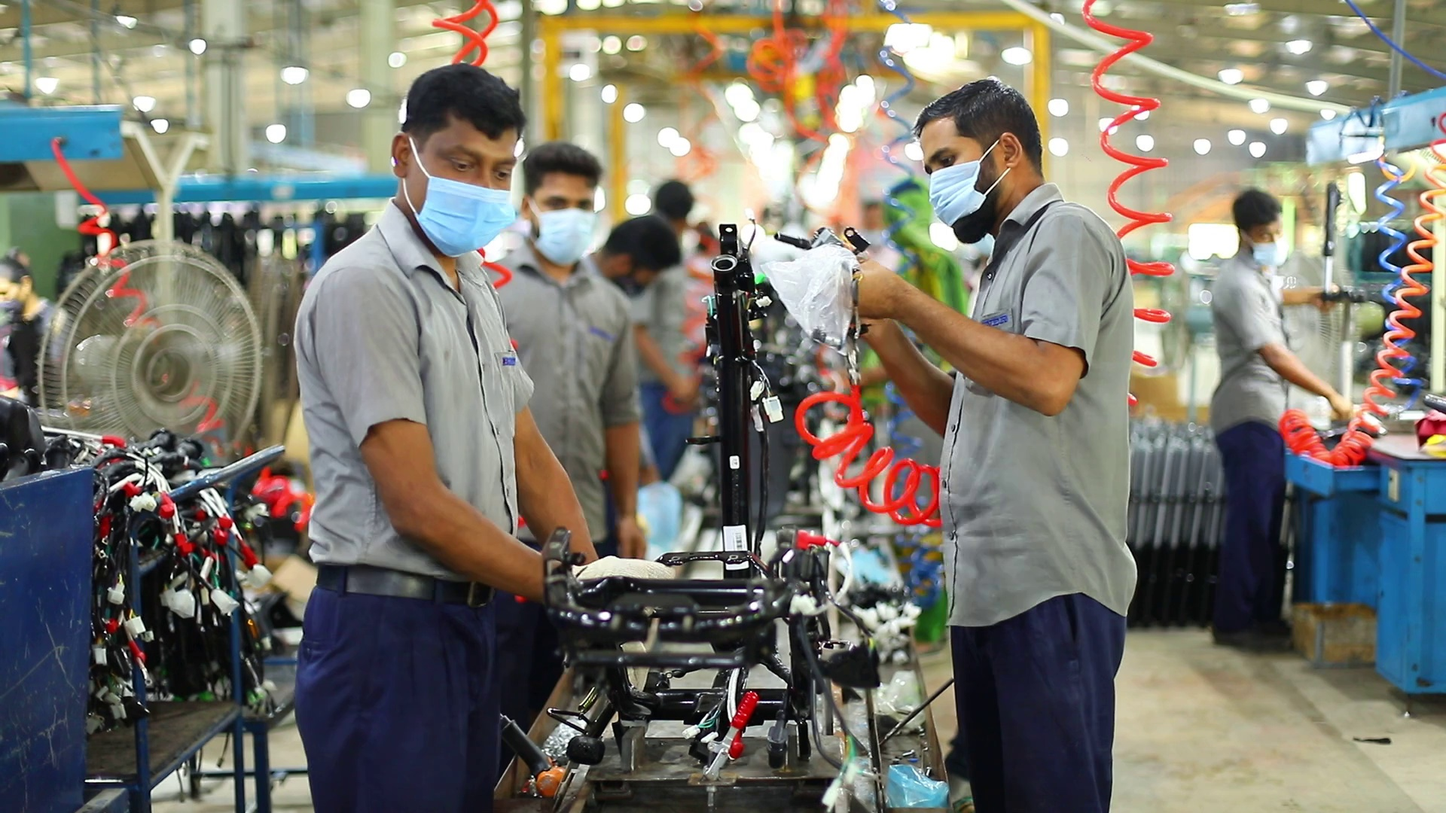mask: (410, 175, 514, 257), (924, 160, 988, 226), (535, 209, 599, 266), (1255, 237, 1291, 265)
person: (284, 56, 606, 813), (845, 78, 1140, 813), (1203, 184, 1359, 647), (489, 142, 648, 570), (592, 215, 700, 485), (640, 179, 703, 344), (0, 256, 53, 405)
